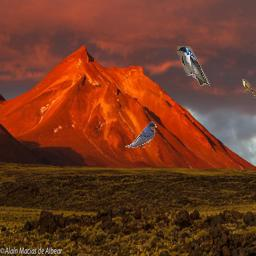Cuckoo: (242, 79, 256, 98)
Swallow: (177, 46, 210, 86), (125, 121, 157, 148)
